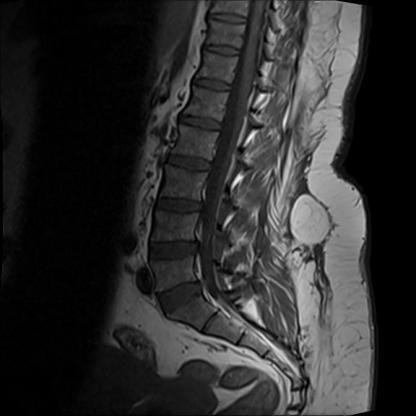Disc Bulgerotation: (155, 282, 210, 314)
